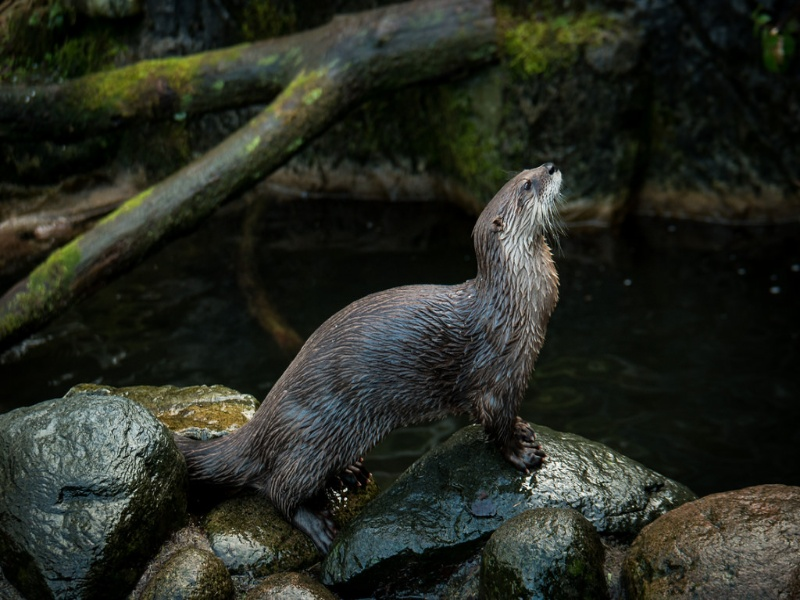minkish: (164, 160, 574, 544)
